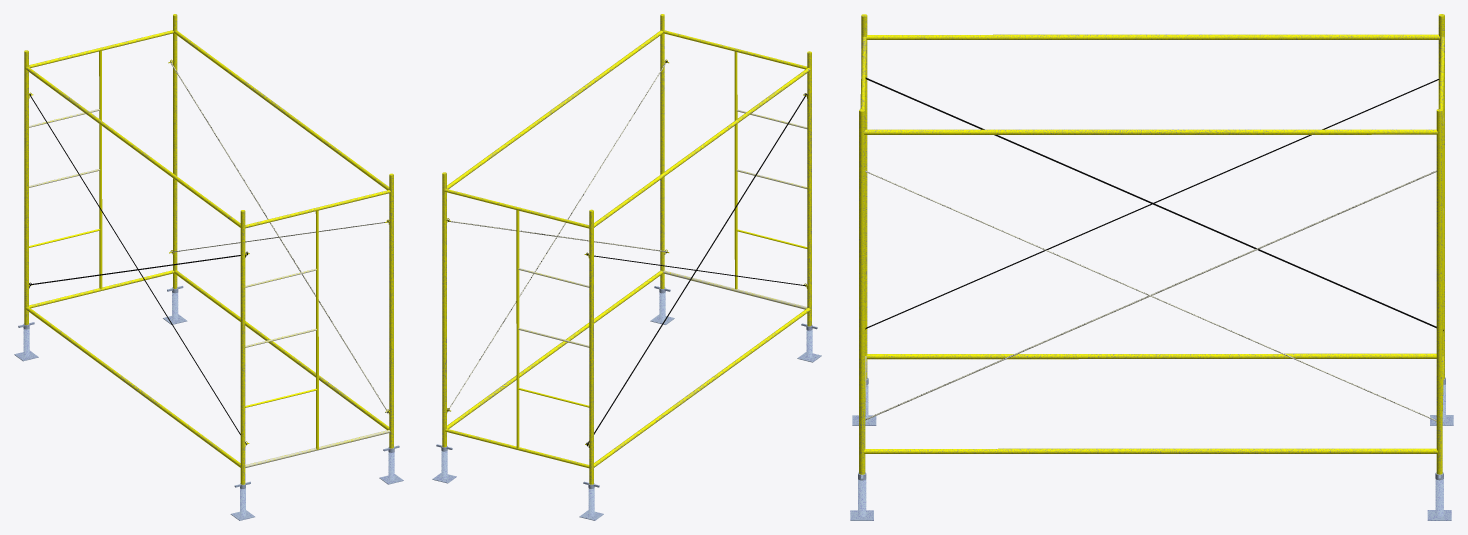
The picture shows the model from 3 angles, left to right: view 1: azimuth 30°, elevation 25°; view 2: azimuth 150°, elevation 25°; view 3: azimuth 270°, elevation 25°; orthographic projection. The views are drawn at different scales.
Parts seen in each view (by area): view 1: SketchUp (×15), group_2; view 2: SketchUp (×15), group_2; view 3: SketchUp (×10), group_2 (×2).
Part boxes in pixels (box(x1,y1,x2,y2)): SketchUp (×15): box(24, 14, 393, 484); group_2: box(30, 95, 240, 434); SketchUp (×15): box(442, 14, 811, 484); group_2: box(587, 96, 805, 444); SketchUp (×10): box(859, 14, 1444, 474); group_2 (×2): box(865, 77, 1439, 328).
Bounding box in the file's own units: 26.17 × 62.63 × 46.63.
